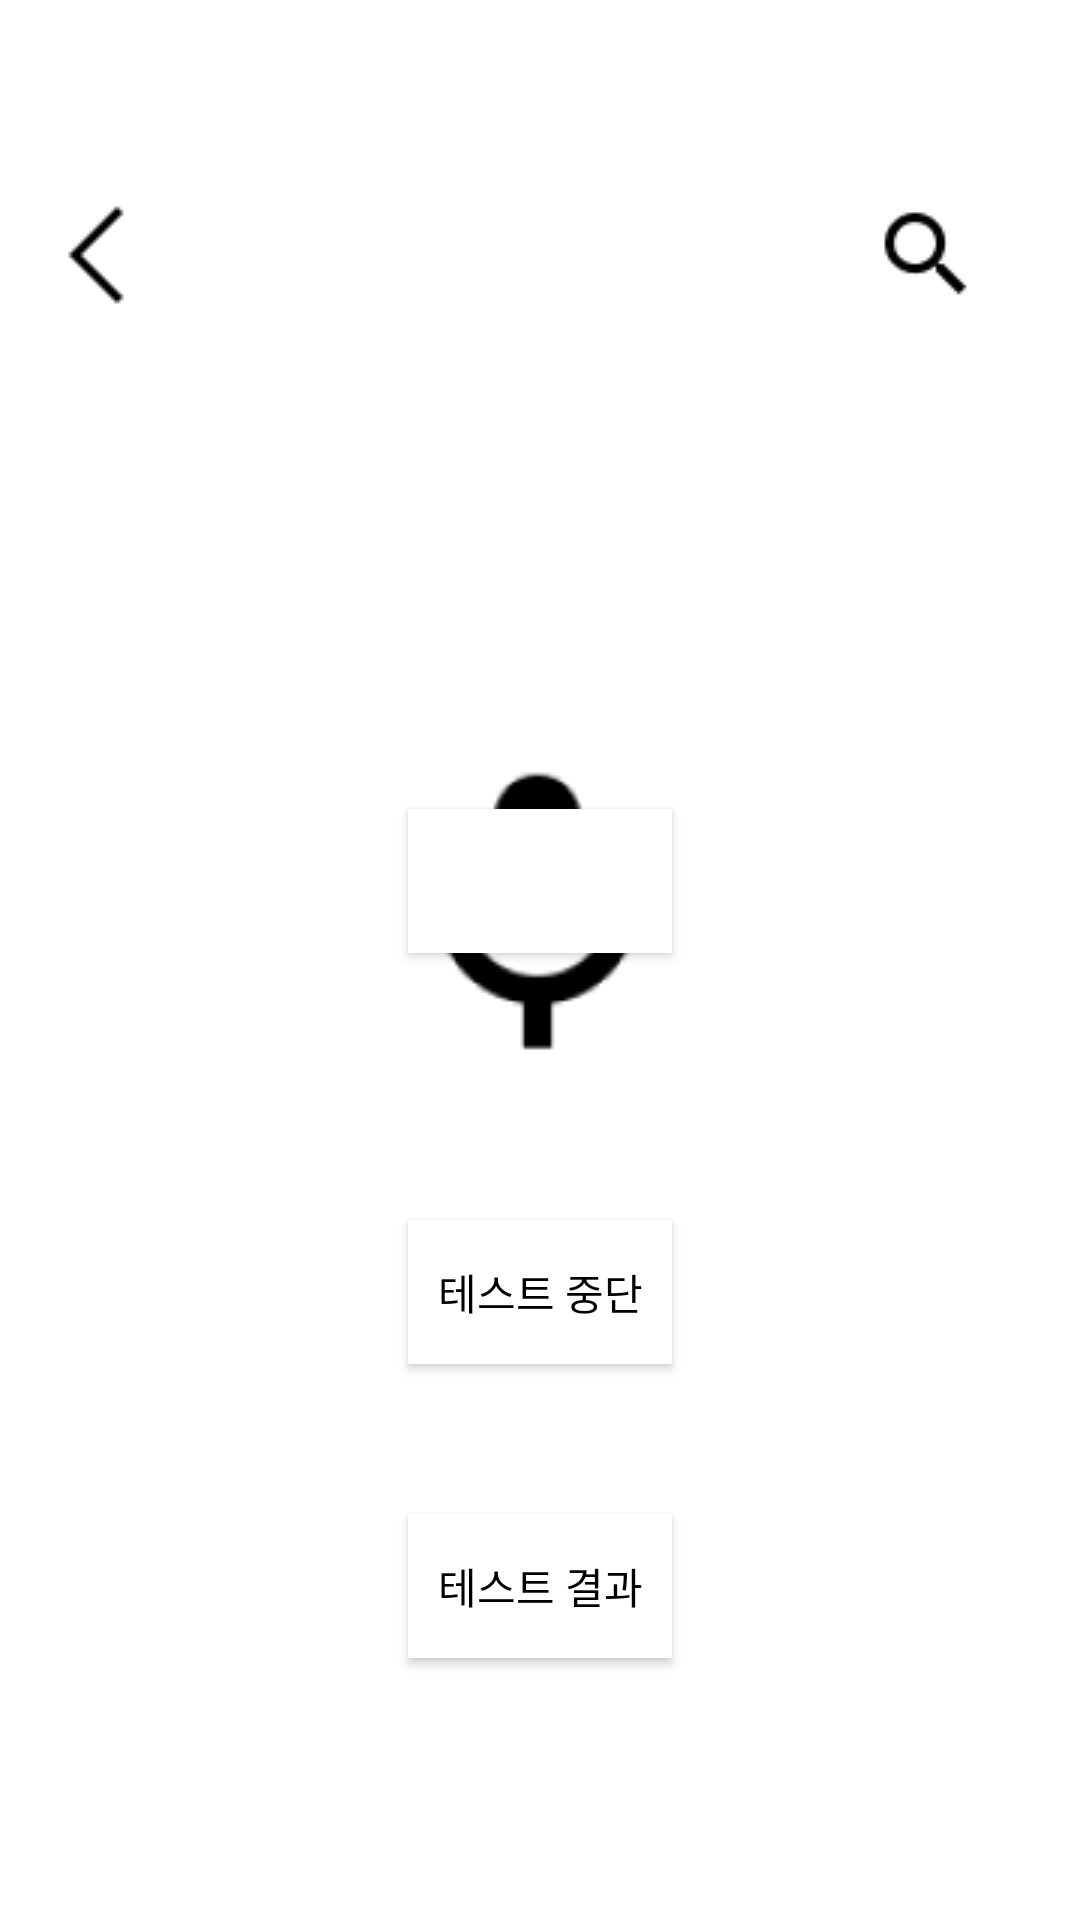

Named icons in this screenshot (1080x1920) and their bounding boxes, (x1, y1, x2, y2):
back: (68, 222, 99, 273)
